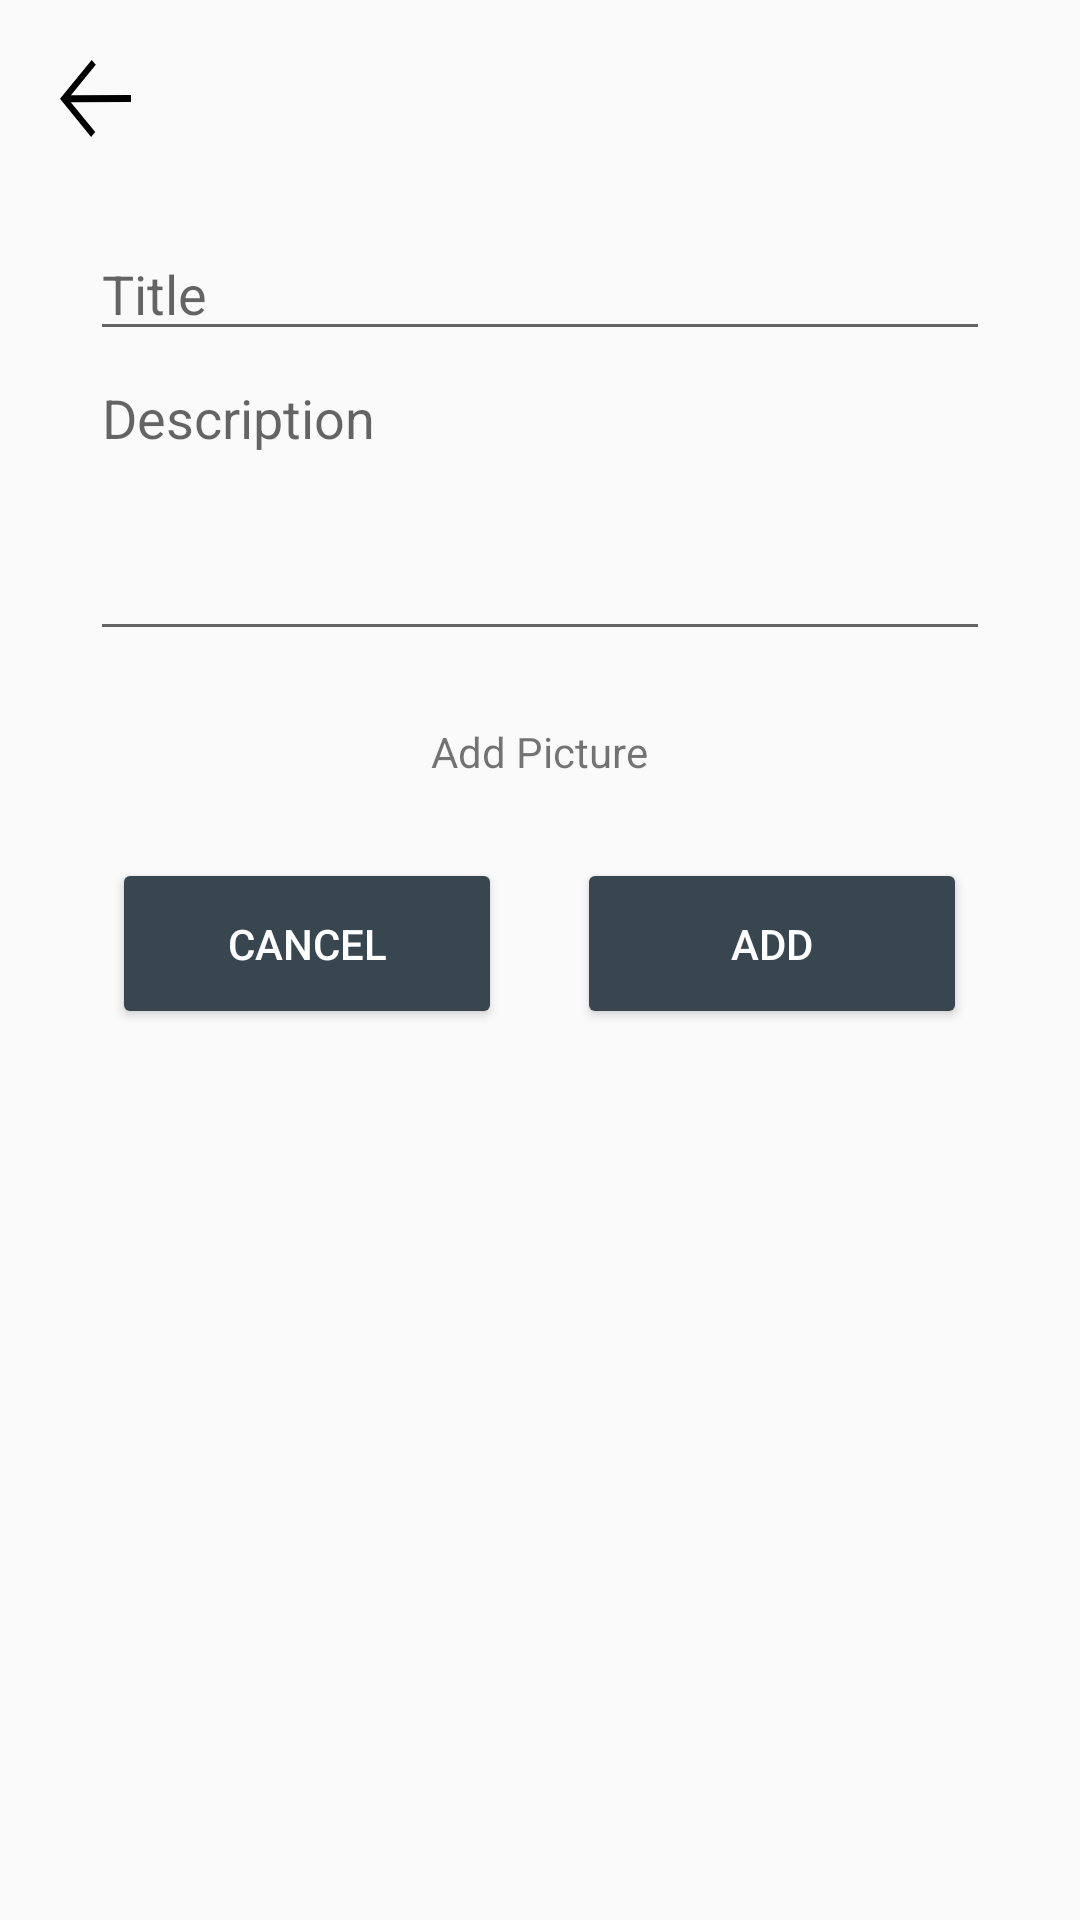

Icon bounding boxes for this 1080x1920 phone screenshot, format (x1, y1, x2, y2):
back: (60, 60, 131, 137)
